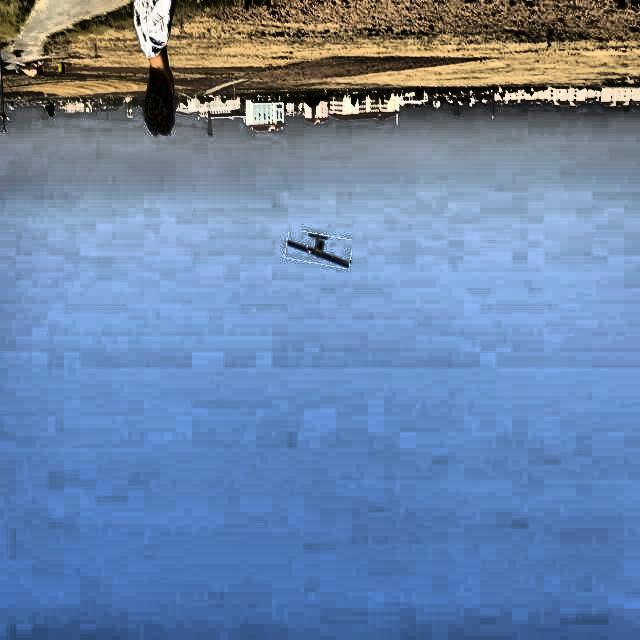iha: (308, 249, 337, 251)
